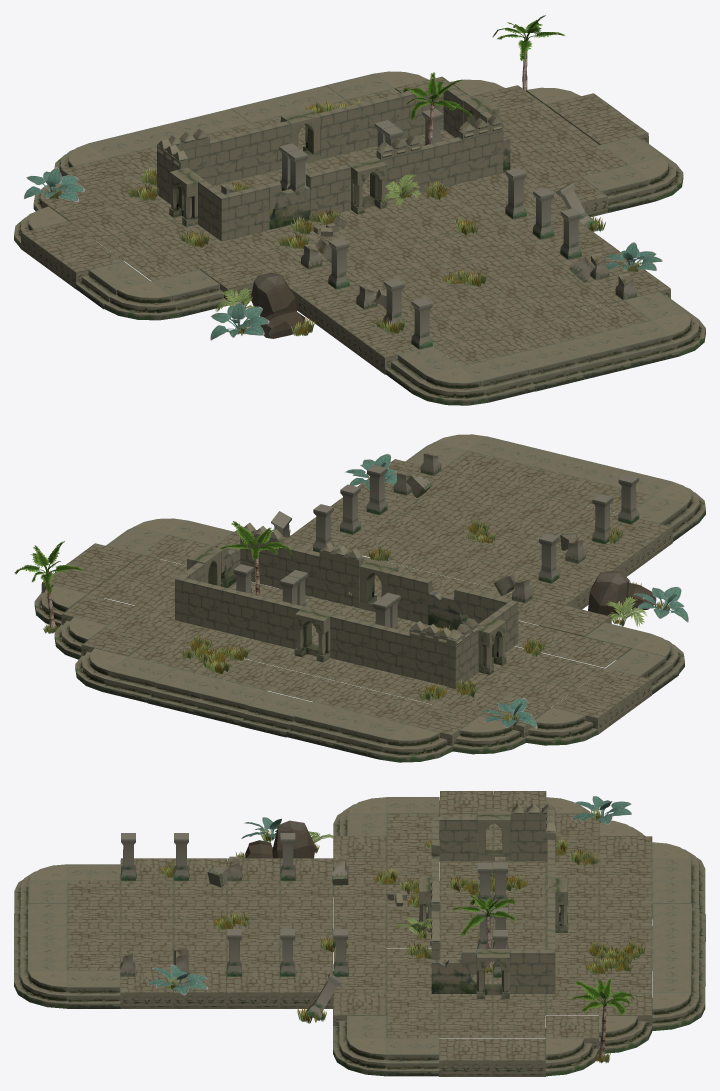
The model's file is rainforest-temple.glb.
3 renders of one model, top to bottom at view 1: azimuth 30°, elevation 25°; view 2: azimuth 150°, elevation 25°; view 3: azimuth 270°, elevation 25°, orthographic. The views are drawn at different scales.
Parts seen in each view (by area): view 1: Object_8, Object_11, Object_4, Object_13, Object_12, Object_10, Object_5, Object_9, Object_6, Object_2, Object_3; view 2: Object_8, Object_11, Object_4, Object_12, Object_13, Object_10, Object_5, Object_9, Object_6, Object_3, Object_2; view 3: Object_8, Object_11, Object_12, Object_13, Object_4, Object_10, Object_5, Object_3, Object_9, Object_2, Object_6.
Part boxes in pixels (bbox=[...]): Object_8: bbox=[21, 76, 670, 374]; Object_11: bbox=[76, 73, 698, 402]; Object_4: bbox=[157, 82, 503, 241]; Object_13: bbox=[24, 15, 662, 340]; Object_12: bbox=[14, 71, 705, 405]; Object_10: bbox=[279, 108, 595, 349]; Object_5: bbox=[169, 96, 498, 226]; Object_9: bbox=[221, 184, 636, 309]; Object_6: bbox=[157, 114, 503, 168]; Object_2: bbox=[251, 273, 305, 338]; Object_3: bbox=[266, 111, 510, 229]; Object_8: bbox=[41, 451, 672, 751]; Object_11: bbox=[101, 436, 699, 759]; Object_4: bbox=[175, 538, 518, 688]; Object_12: bbox=[34, 434, 705, 762]; Object_13: bbox=[14, 453, 688, 728]; Object_10: bbox=[233, 465, 639, 629]; Object_5: bbox=[187, 547, 506, 674]; Object_9: bbox=[393, 451, 585, 602]; Object_6: bbox=[240, 522, 478, 647]; Object_3: bbox=[215, 543, 470, 630]; Object_2: bbox=[588, 571, 656, 618]; Object_8: bbox=[67, 791, 652, 1076]; Object_11: bbox=[14, 797, 705, 1076]; Object_12: bbox=[14, 797, 705, 1076]; Object_13: bbox=[147, 796, 645, 1063]; Object_4: bbox=[431, 816, 556, 993]; Object_10: bbox=[120, 833, 508, 1020]; Object_5: bbox=[419, 811, 567, 999]; Object_3: bbox=[431, 839, 476, 993]; Object_9: bbox=[120, 856, 507, 976]; Object_2: bbox=[245, 820, 315, 859]; Object_6: bbox=[430, 803, 556, 949].
Bounding box in the file's own units: 11.39 × 2.01 × 12.34.
12 materials, 12 textured.
